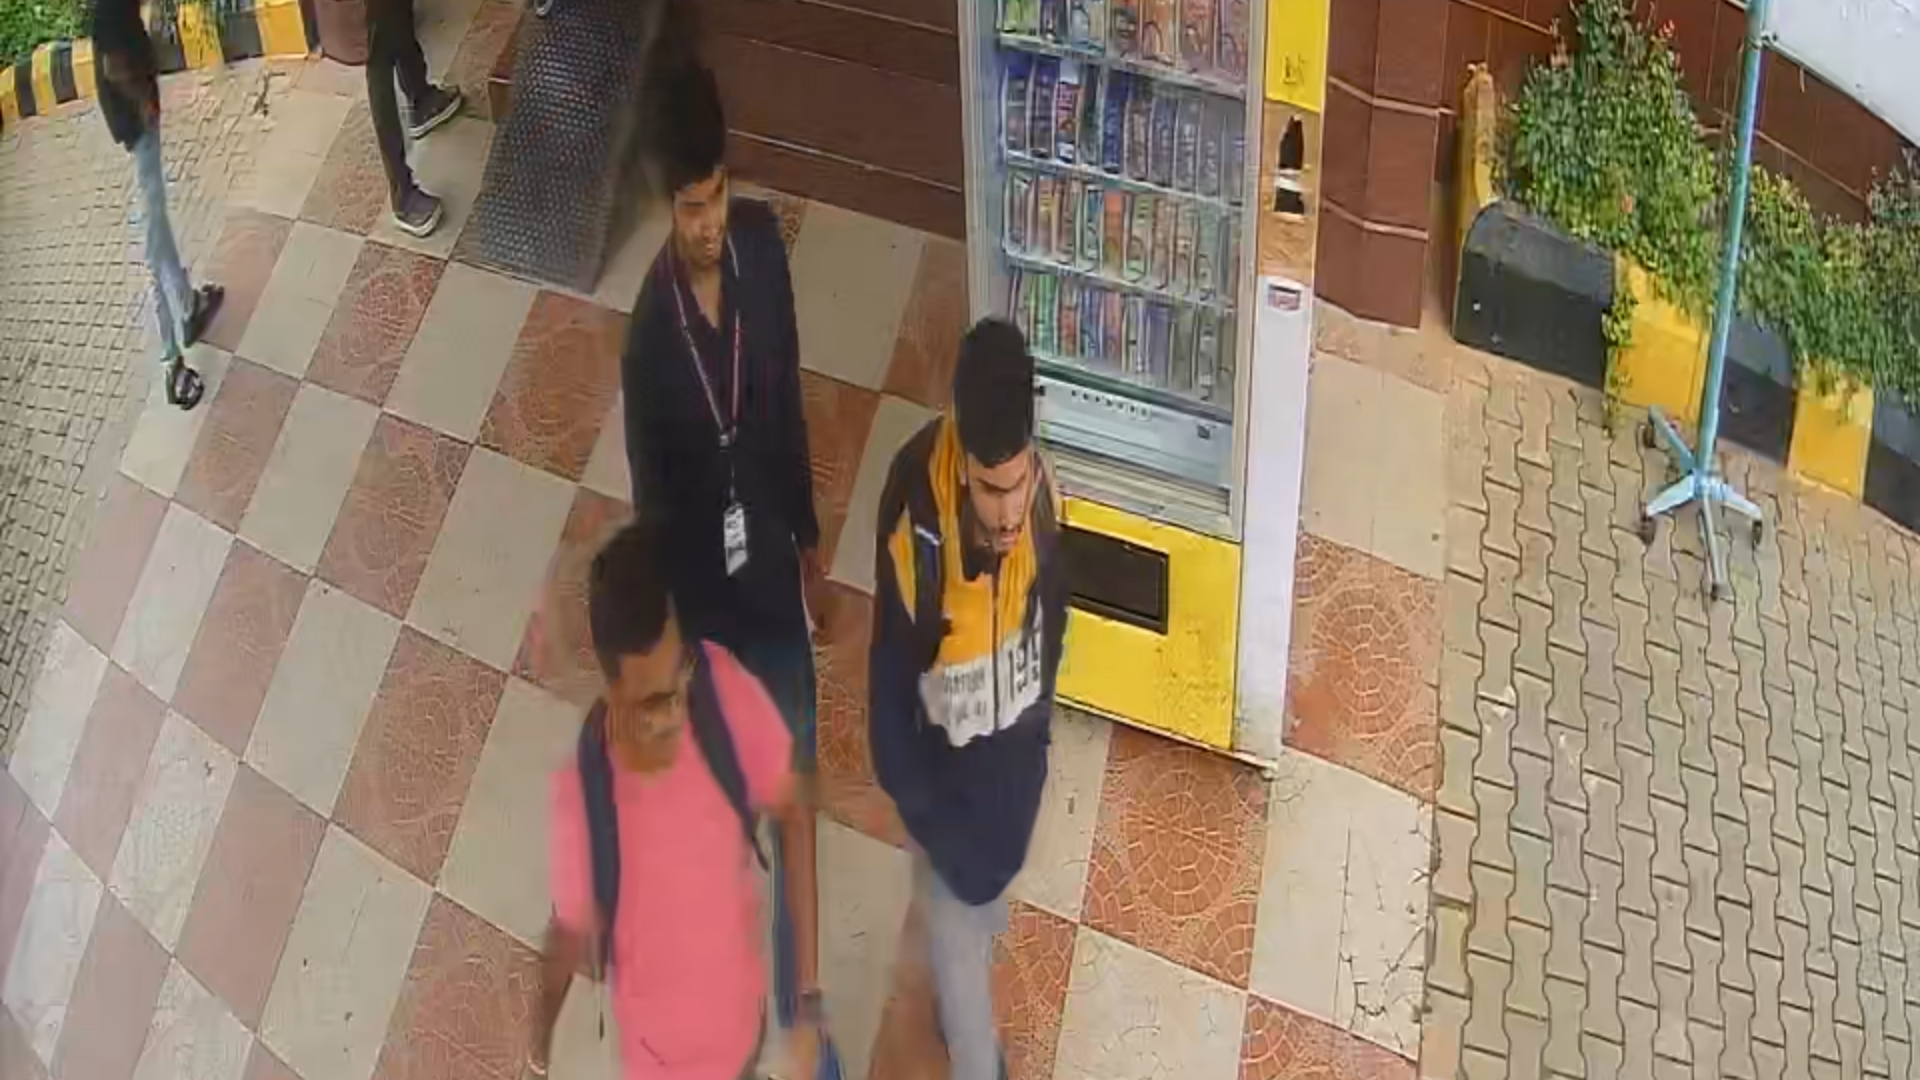intruder: (873, 324, 1102, 1069), (539, 504, 819, 1080)
not intruder: (636, 69, 855, 794)
